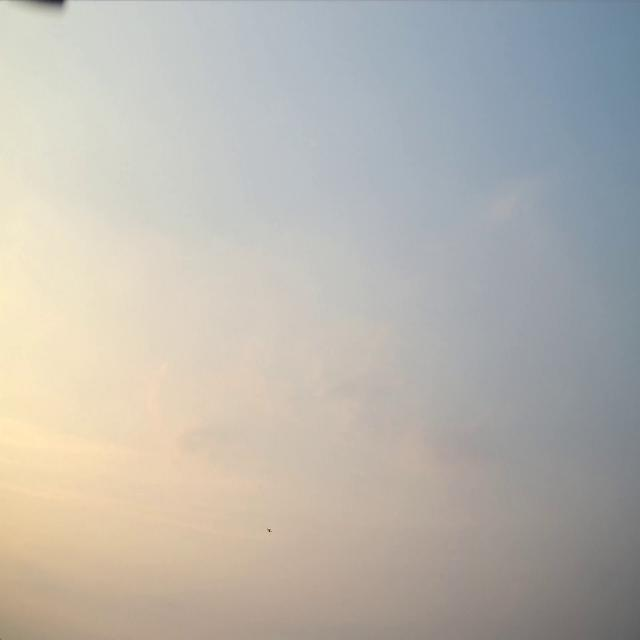drone: (267, 527, 272, 533)
